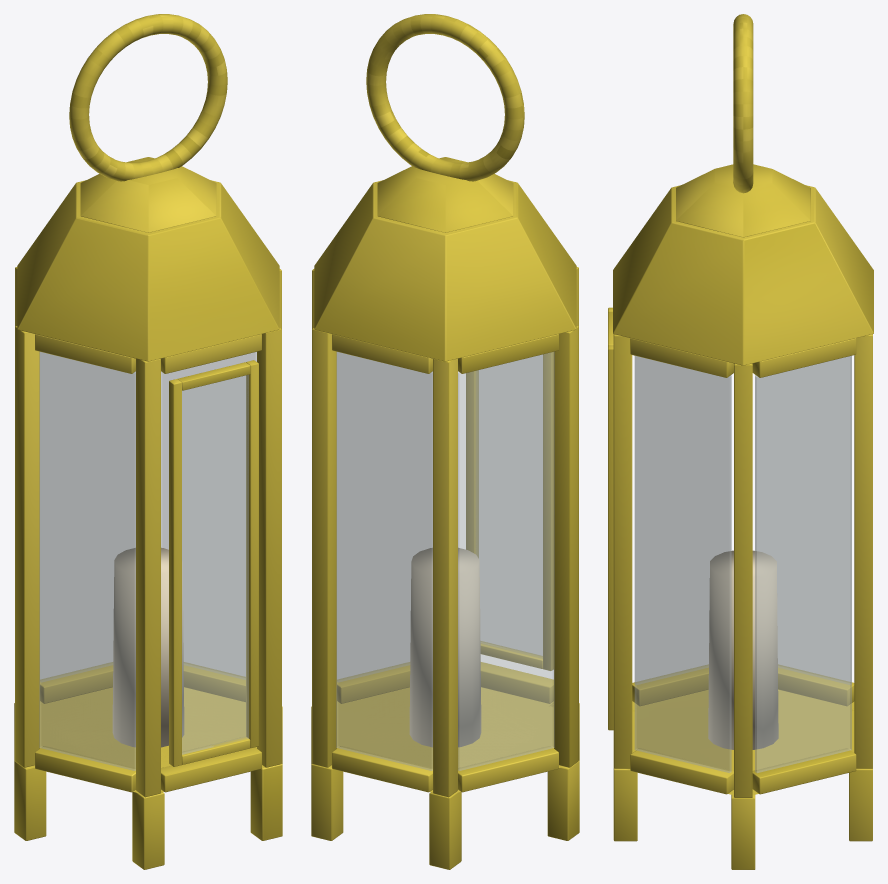
Rendered from lantern.glb.
3 views of the same model, side by side, from view 1: azimuth 30°, elevation 25°; view 2: azimuth 150°, elevation 25°; view 3: azimuth 270°, elevation 25° (orthographic).
Visible parts, largest first — view 1: Glass, Frame, Roof, Door_Glass, Base, Door, Handle, Candle; view 2: Glass, Frame, Roof, Door_Glass, Base, Handle, Candle, Door; view 3: Glass, Roof, Frame, Base, Candle, Handle, Door.
Boxes of the visible parts, x1=… form: Glass: x1=39, y1=352, x2=256, y2=770; Frame: x1=15, y1=267, x2=281, y2=797; Roof: x1=17, y1=157, x2=279, y2=361; Door_Glass: x1=182, y1=375, x2=248, y2=754; Base: x1=14, y1=687, x2=282, y2=869; Door: x1=169, y1=360, x2=258, y2=766; Handle: x1=69, y1=14, x2=227, y2=181; Candle: x1=112, y1=547, x2=184, y2=747; Glass: x1=336, y1=352, x2=554, y2=770; Frame: x1=312, y1=267, x2=578, y2=797; Roof: x1=314, y1=157, x2=576, y2=361; Door_Glass: x1=476, y1=355, x2=542, y2=656; Base: x1=311, y1=687, x2=579, y2=869; Handle: x1=366, y1=14, x2=524, y2=181; Candle: x1=409, y1=548, x2=481, y2=747; Door: x1=466, y1=352, x2=553, y2=670; Glass: x1=634, y1=355, x2=851, y2=772; Roof: x1=613, y1=164, x2=873, y2=365; Frame: x1=613, y1=334, x2=872, y2=797; Base: x1=613, y1=689, x2=872, y2=869; Candle: x1=708, y1=550, x2=778, y2=749; Handle: x1=733, y1=14, x2=753, y2=193; Door: x1=608, y1=307, x2=613, y2=730.
Bounding box in the file's own units: 0.151 × 0.435 × 0.1334.
Materials: 4 (1 with a texture image).
